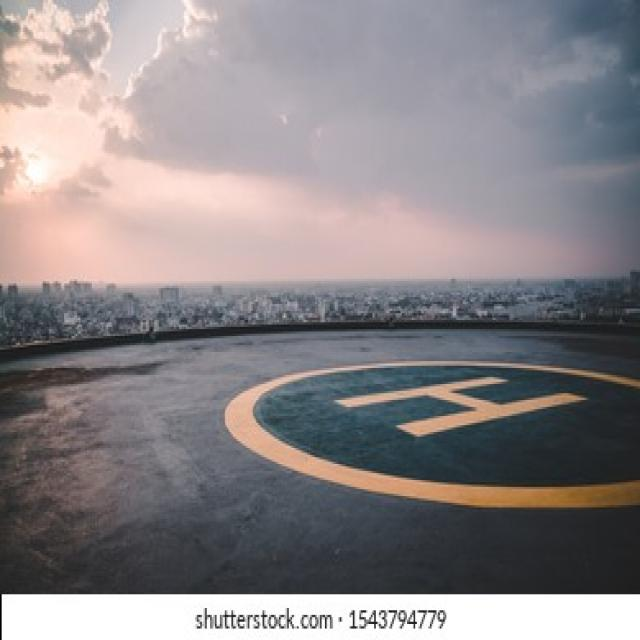helipad: (217, 347, 638, 512)
